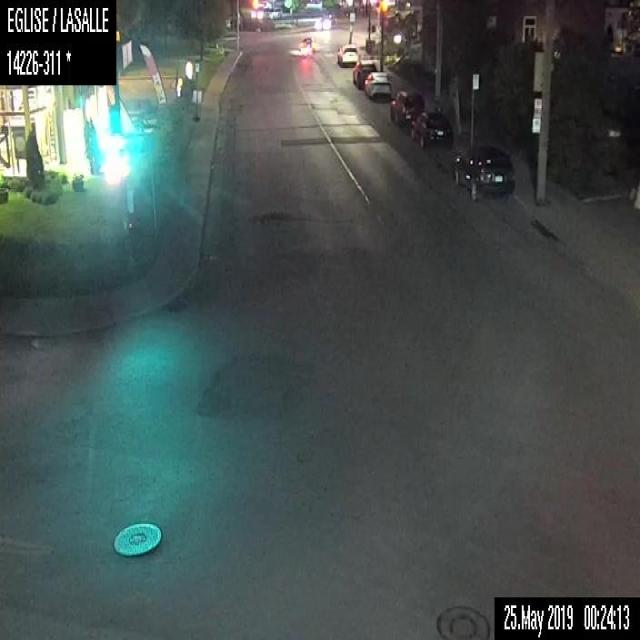vehicle: (450, 145, 516, 200), (409, 108, 452, 147), (389, 89, 423, 125), (364, 70, 393, 103), (351, 58, 378, 87), (337, 42, 358, 68), (314, 12, 334, 29), (297, 36, 312, 53)
